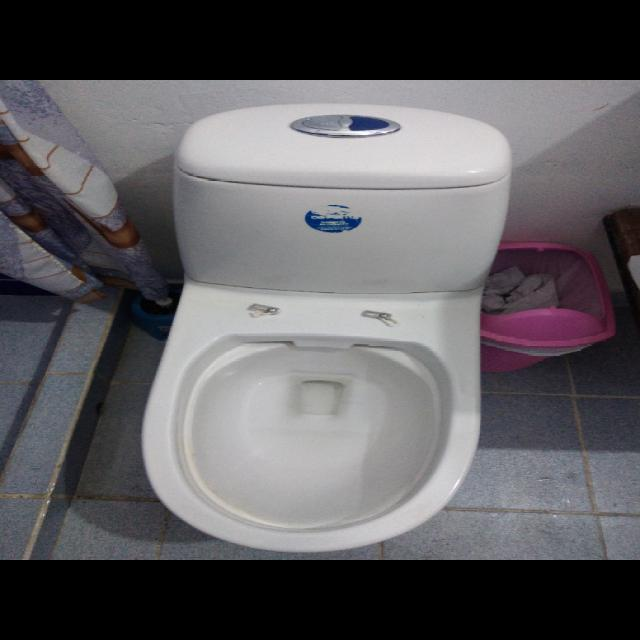toilet: (137, 100, 520, 559)
